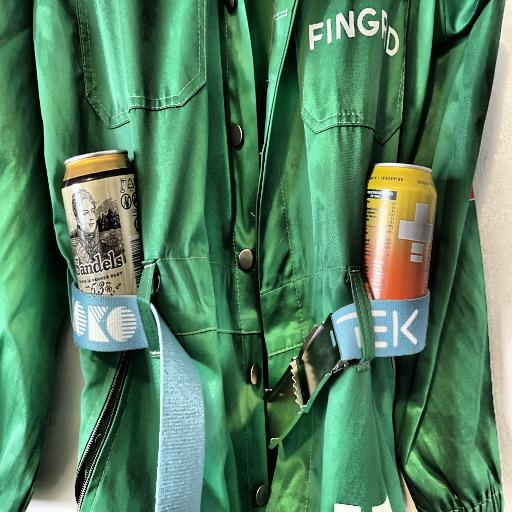sandels: (51, 136, 150, 327)
